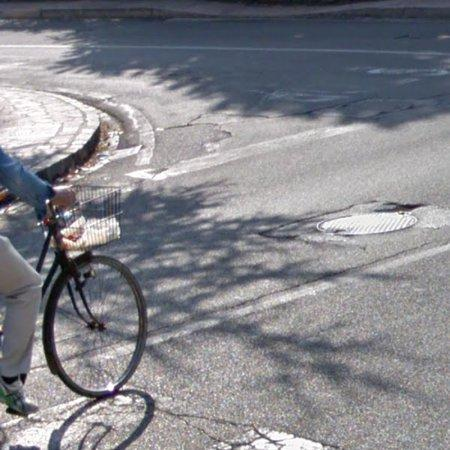bicycles: (37, 186, 147, 397)
